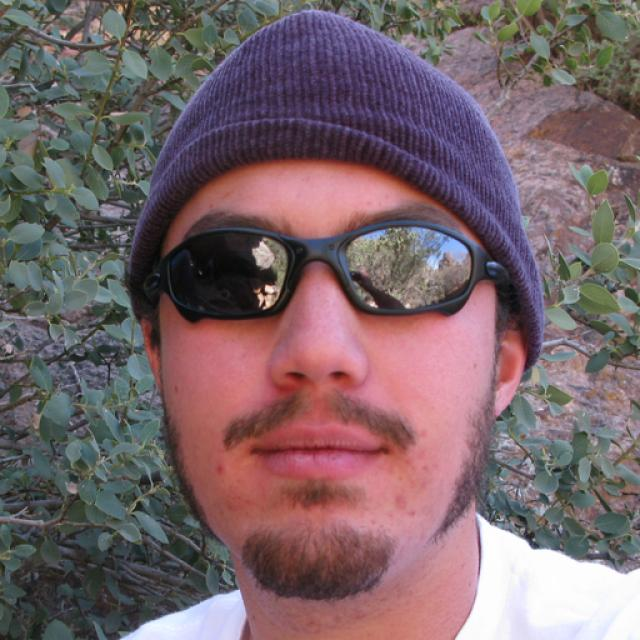Acne: (209, 461, 231, 481)
